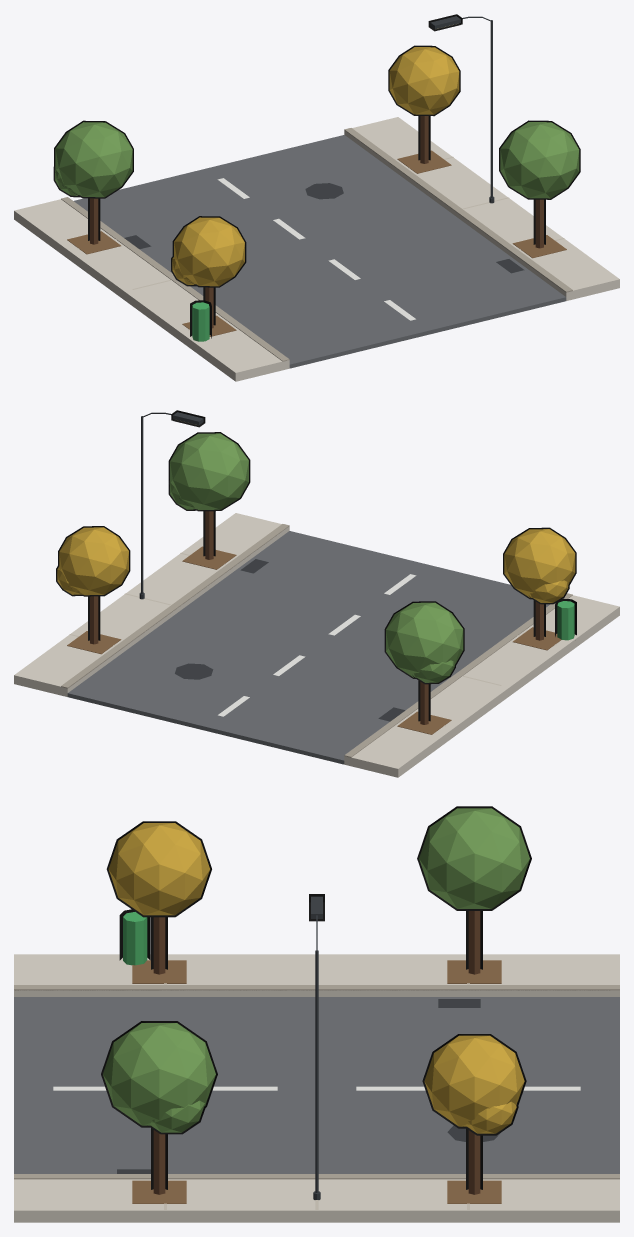
The model's file is Yol_lane_agacli.fbx.
3 views of the same model, one above another, from view 1: azimuth 30°, elevation 25°; view 2: azimuth 150°, elevation 25°; view 3: azimuth 270°, elevation 25° (orthographic). The views are drawn at different scales.
Visible parts, largest first — view 1: Yol_lane_agacli; view 2: Yol_lane_agacli; view 3: Yol_lane_agacli.
Part boxes in pixels (<box>): Yol_lane_agacli: <box>14,14,619,381</box>; Yol_lane_agacli: <box>14,410,619,777</box>; Yol_lane_agacli: <box>14,806,619,1222</box>.
Size of the model in its own units: 10.52 by 5.04 by 10.
